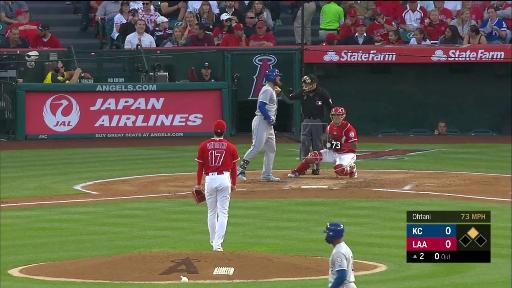pitcher: (193, 119, 239, 253)
